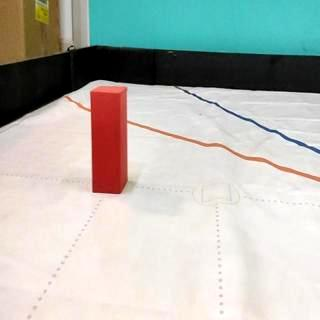redbox: (90, 84, 128, 194)
